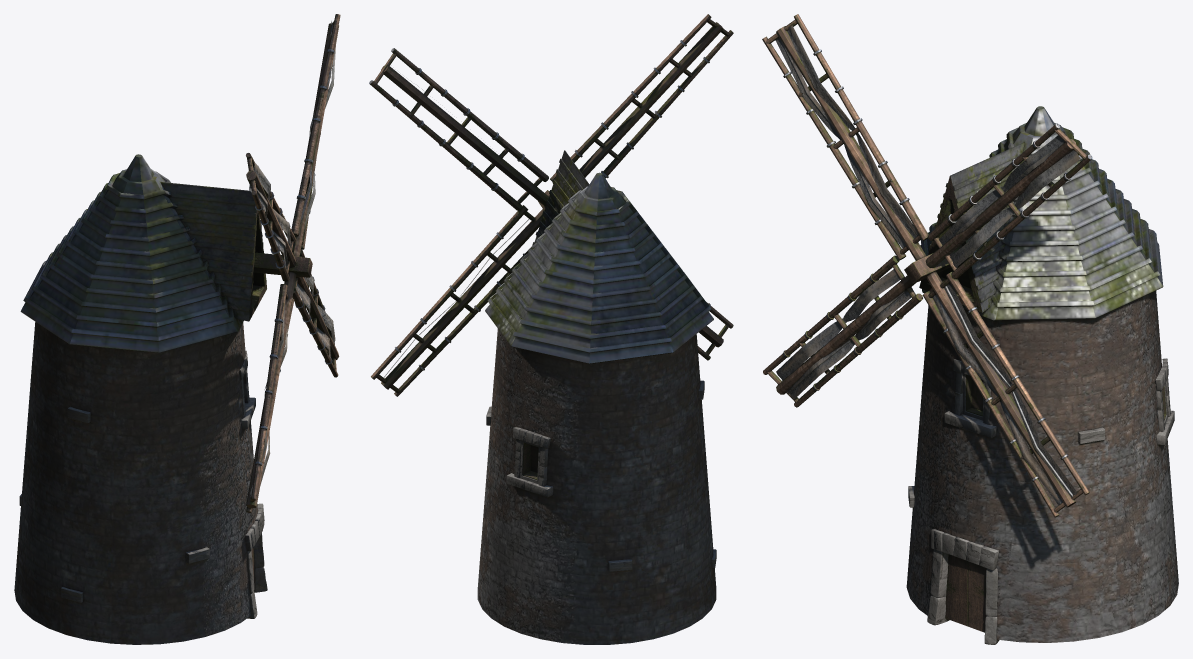
File: windmill_solo.glb
The picture shows the model from 3 angles, left to right: view 1: azimuth 30°, elevation 25°; view 2: azimuth 150°, elevation 25°; view 3: azimuth 270°, elevation 25°; orthographic projection. The views are drawn at different scales.
Visible parts, largest first — view 1: windmill_struc; view 2: windmill_struc; view 3: windmill_struc.
Boxes of the visible parts, <box> form: windmill_struc: <box>14,14,340,644</box>; windmill_struc: <box>369,14,733,644</box>; windmill_struc: <box>762,14,1178,644</box>.
Bounding box in the file's own units: 10.67 × 16.64 × 10.92.
1 material, 1 textured.
